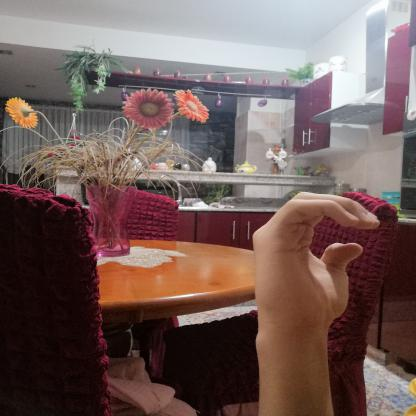JEEM: (239, 182, 390, 349)
